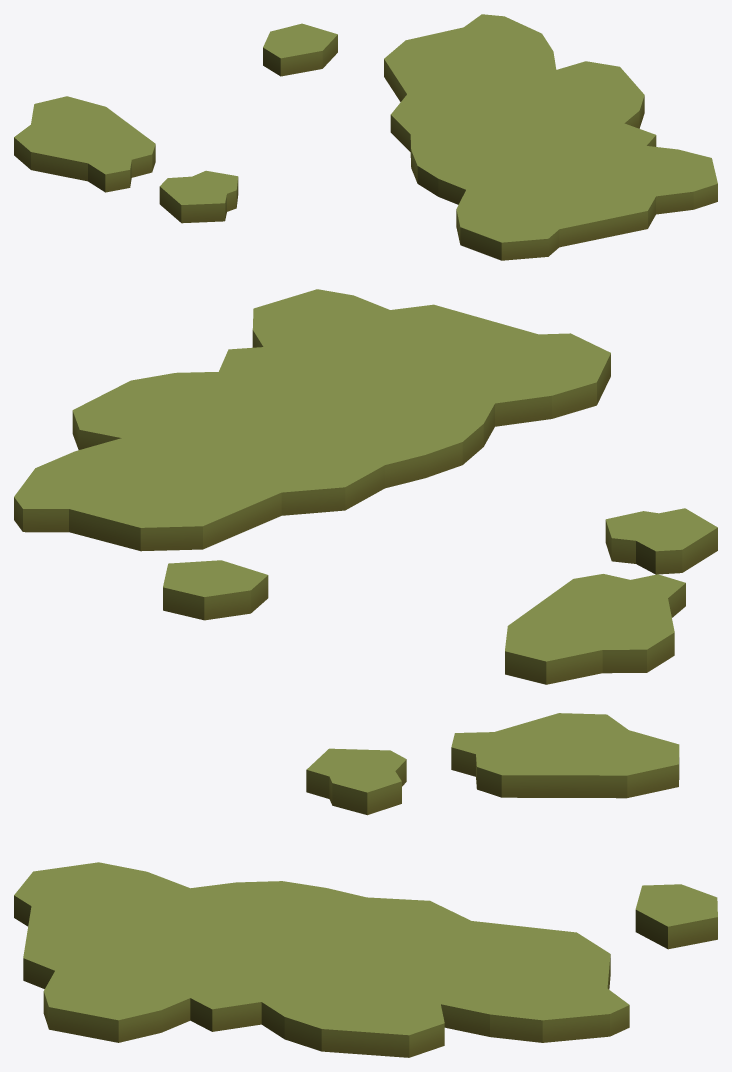
The model's file is Building_Grass_02.fbx.
3 views of the same model, one above another, from view 1: azimuth 30°, elevation 25°; view 2: azimuth 150°, elevation 25°; view 3: azimuth 270°, elevation 25° (orthographic). The views are drawn at different scales.
Visible parts, largest first — view 1: Building_Grass_02; view 2: Building_Grass_02; view 3: Building_Grass_02.
Part boxes in pixels (x1,y1,x2,y2): Building_Grass_02: (14,14,717,260); Building_Grass_02: (14,289,717,684); Building_Grass_02: (14,713,717,1057).
Size of the model in its own units: 1.28 by 0.0419 by 1.18.
